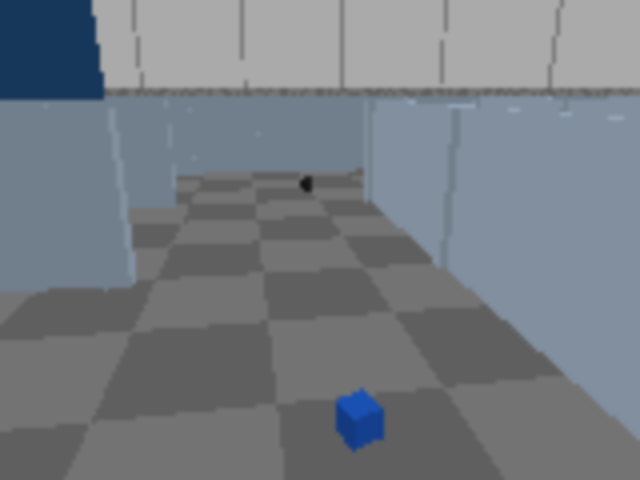puck: (335, 389, 384, 451)
